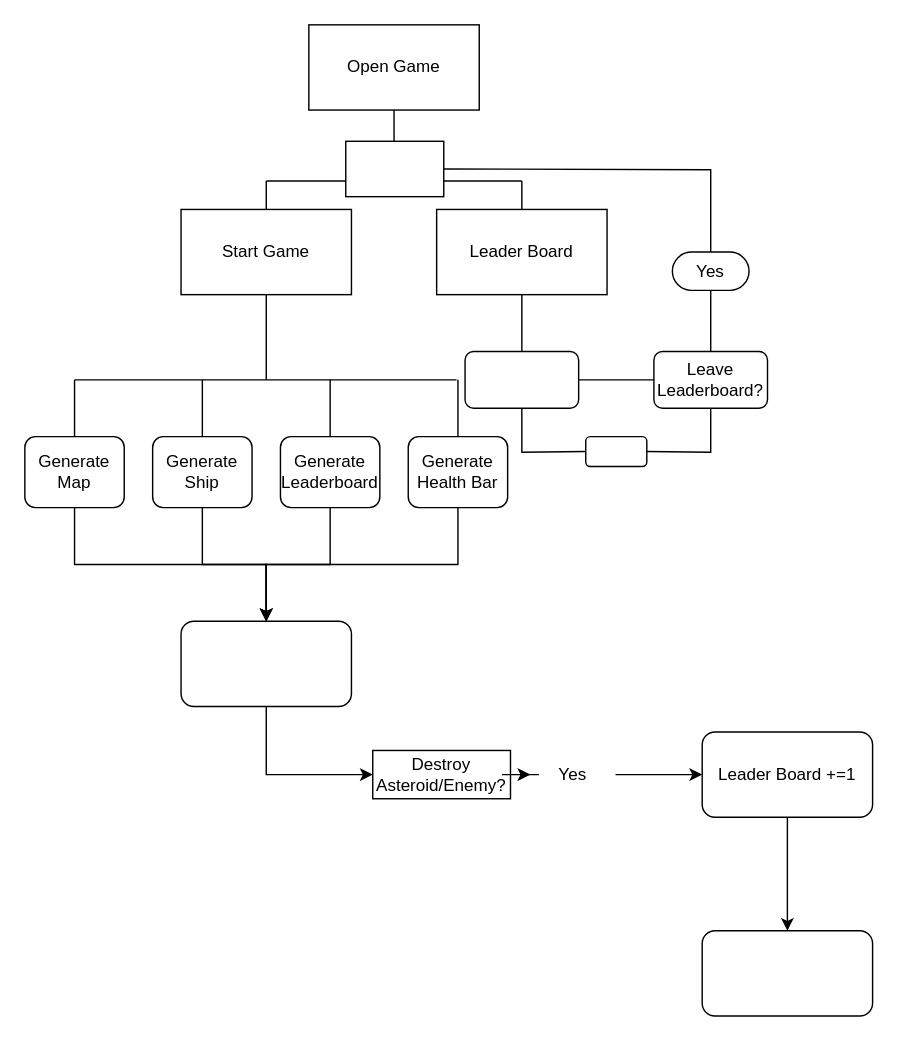
Image size: 897x1041. Some labels were removed from this diagram. The shapes that lost their labels are listed below. From the top down, each one's centre as x and y in pixels, then its label:
At (x=394, y=168): "Main Menu".
At (x=521, y=379): "Show Leaderboard".
At (x=615, y=450): "No".
At (x=265, y=663): "Press Any Key to Start (Phone taps screen)".
At (x=787, y=972): "If Score >= 500: Spawn Enemy Ships".
